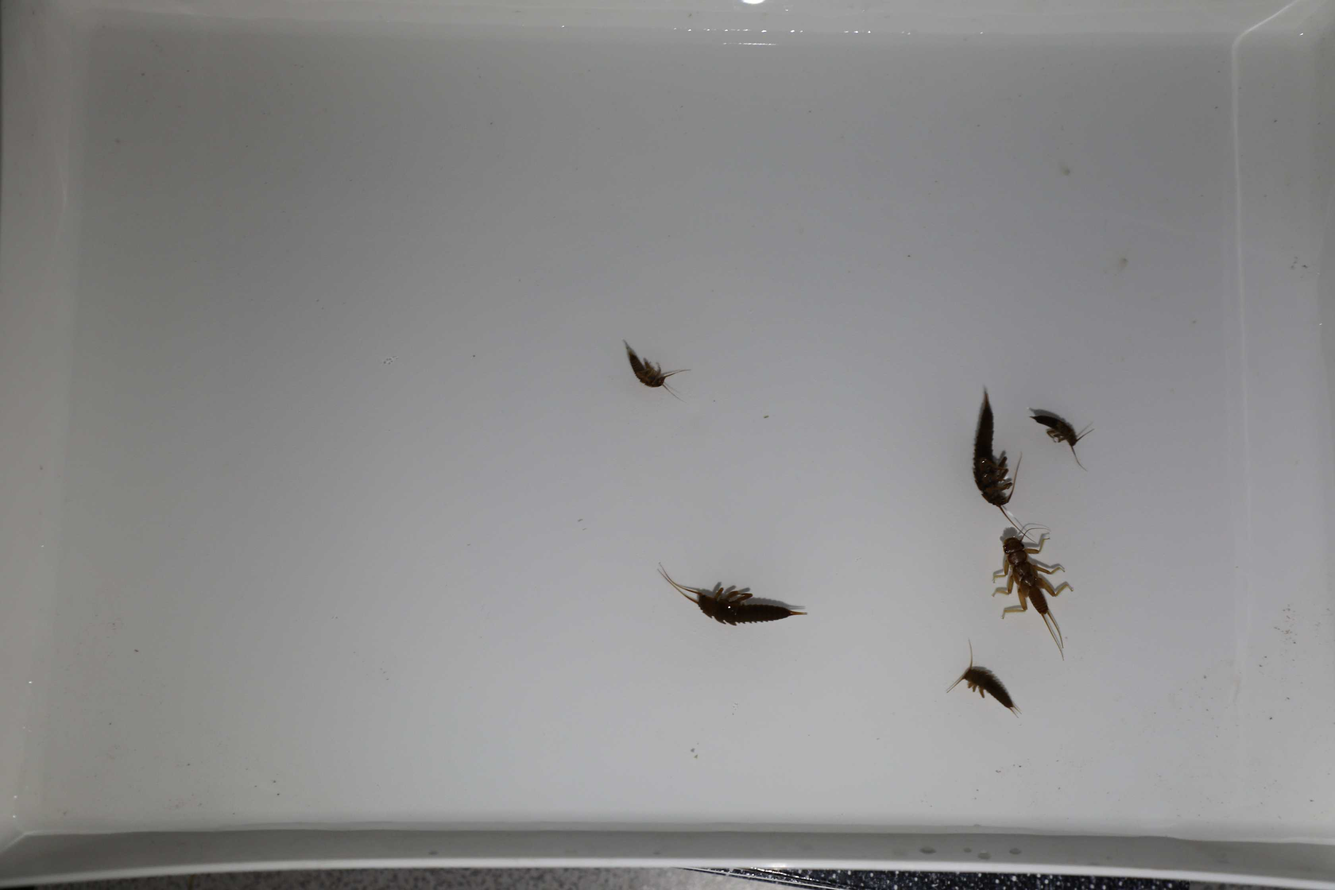Stonefly: (982, 514, 1070, 659), (654, 560, 807, 631), (966, 376, 1020, 527), (935, 631, 1020, 718), (1027, 396, 1095, 477), (619, 340, 690, 401)
